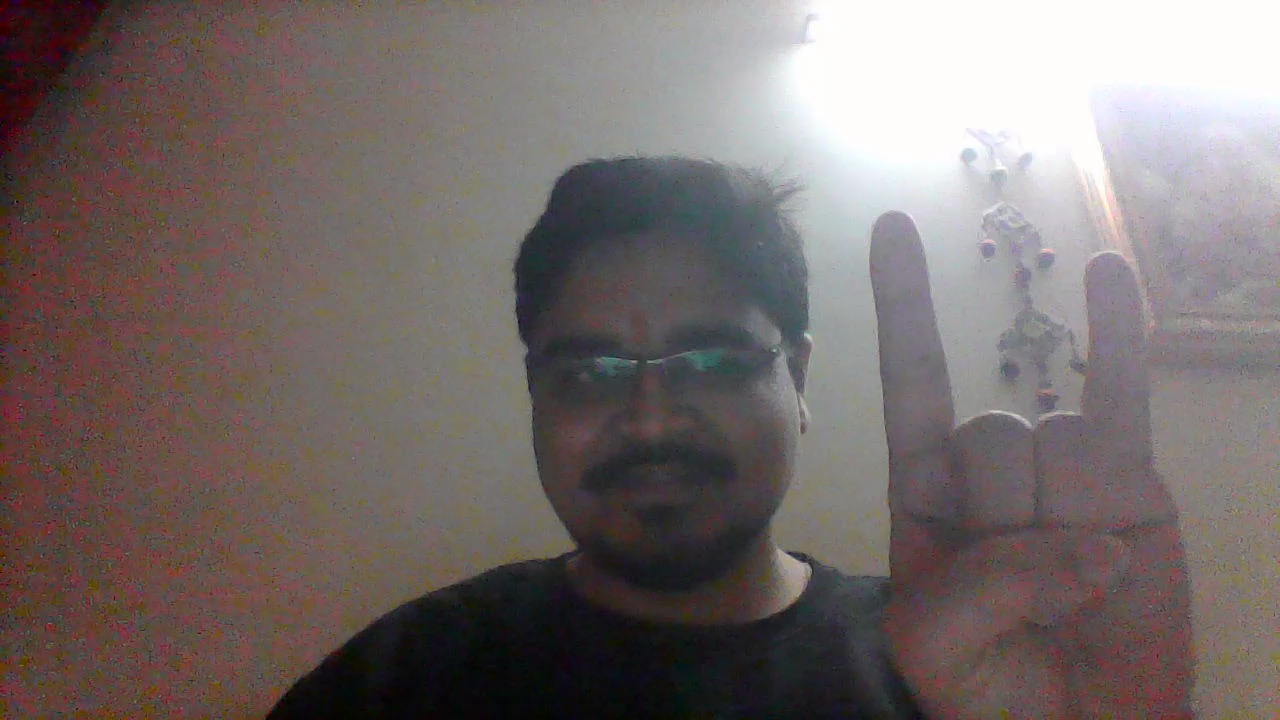ILoveYou: (862, 209, 1195, 720)
